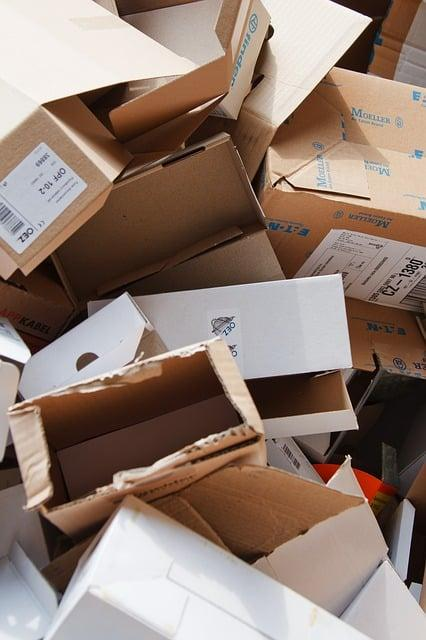cardboard: (9, 294, 266, 537), (0, 133, 281, 346), (175, 468, 425, 639), (135, 275, 357, 434), (259, 68, 425, 276), (0, 0, 240, 139)
